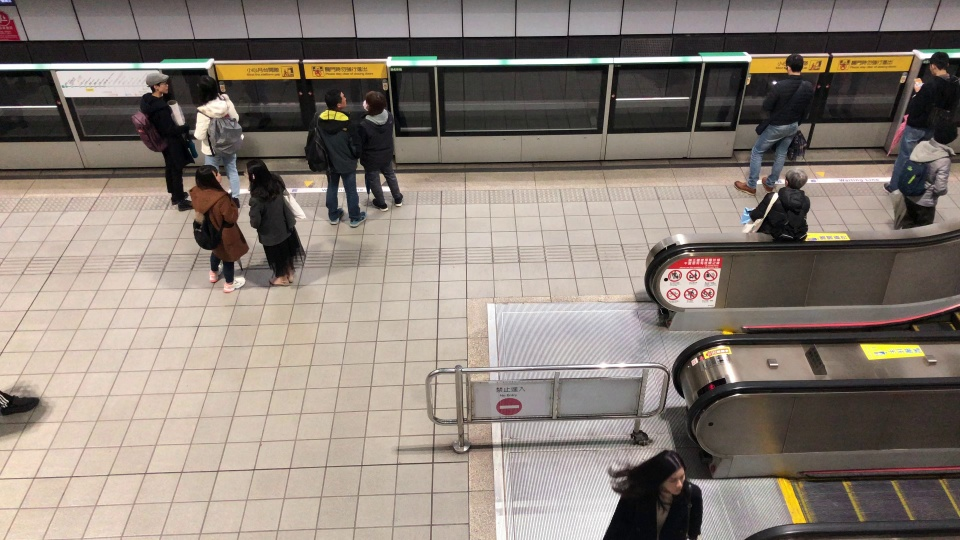person_head: (245, 159, 273, 196), (931, 110, 959, 146), (192, 75, 220, 107), (661, 463, 687, 497), (193, 164, 222, 193), (321, 88, 347, 112), (361, 90, 385, 115), (927, 51, 951, 76), (145, 72, 169, 96), (784, 169, 808, 190), (784, 53, 804, 77)
person_vbox: (734, 53, 816, 195), (881, 51, 960, 195), (129, 72, 199, 213), (303, 88, 368, 229), (605, 449, 705, 540), (239, 159, 308, 289), (887, 109, 960, 230), (184, 165, 248, 294), (186, 74, 245, 208), (349, 90, 404, 214), (739, 169, 812, 243)
